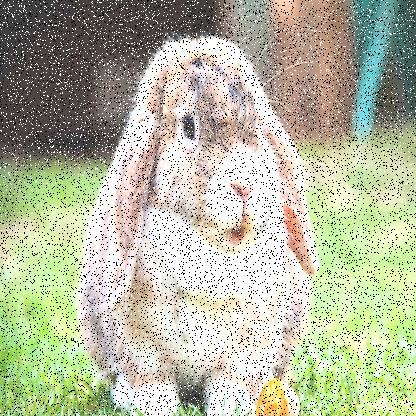rabbit: (65, 15, 335, 415)
